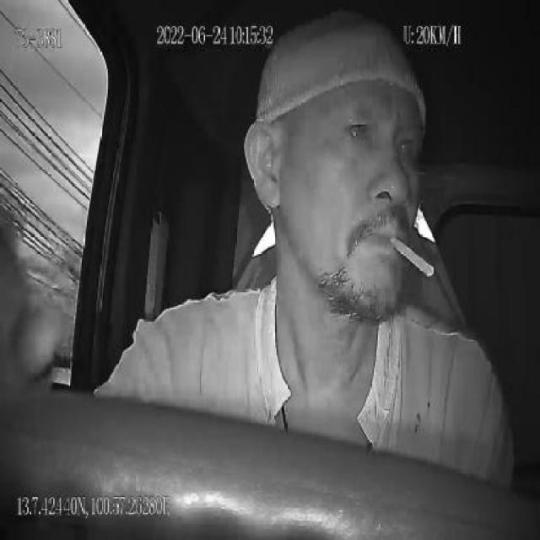smoking: (388, 233, 436, 283)
